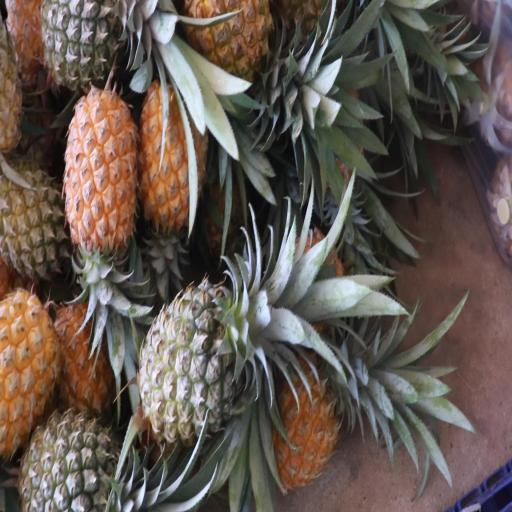Pineapple - v8 v1: (64, 83, 136, 296), (135, 70, 206, 234), (0, 284, 65, 458)
